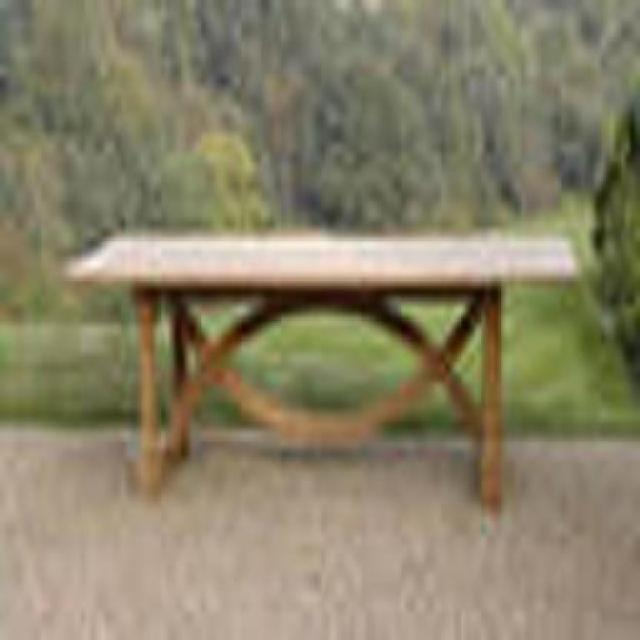tables: (63, 228, 580, 530)
